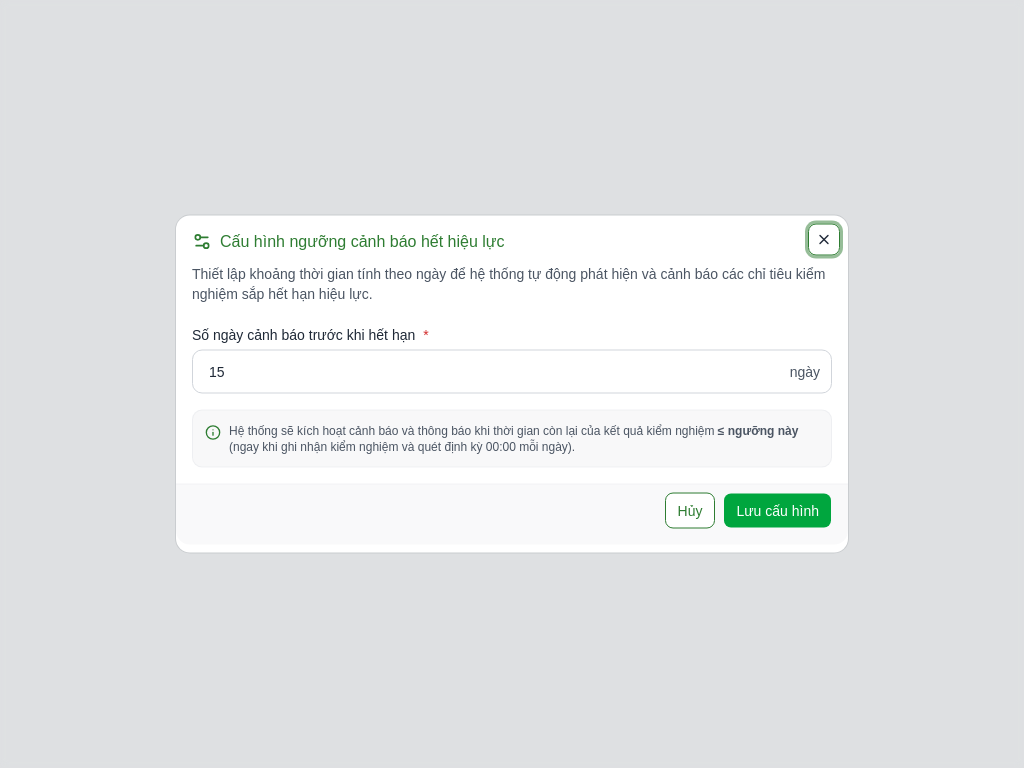
Test: InspectionExpiryThresholdDialog › hiển thị thông báo lỗi khi API cập nhật trả về lỗi
Replace the text in the number field labelled "Số ngày cảnh báo trước khi hết hạn *" with "20" at {"x": 512, "y": 372}, box x1=192 y1=350 x2=832 y2=394
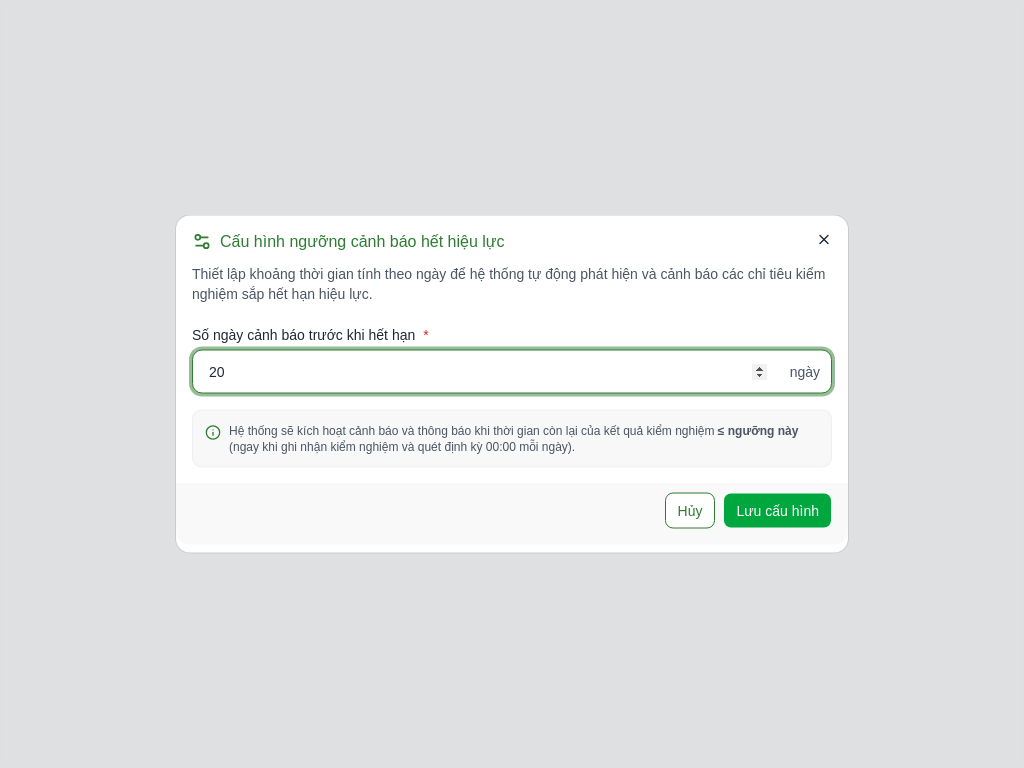
Click the button "Lưu cấu hình".
click(778, 510)  # box x1=724 y1=492 x2=832 y2=528
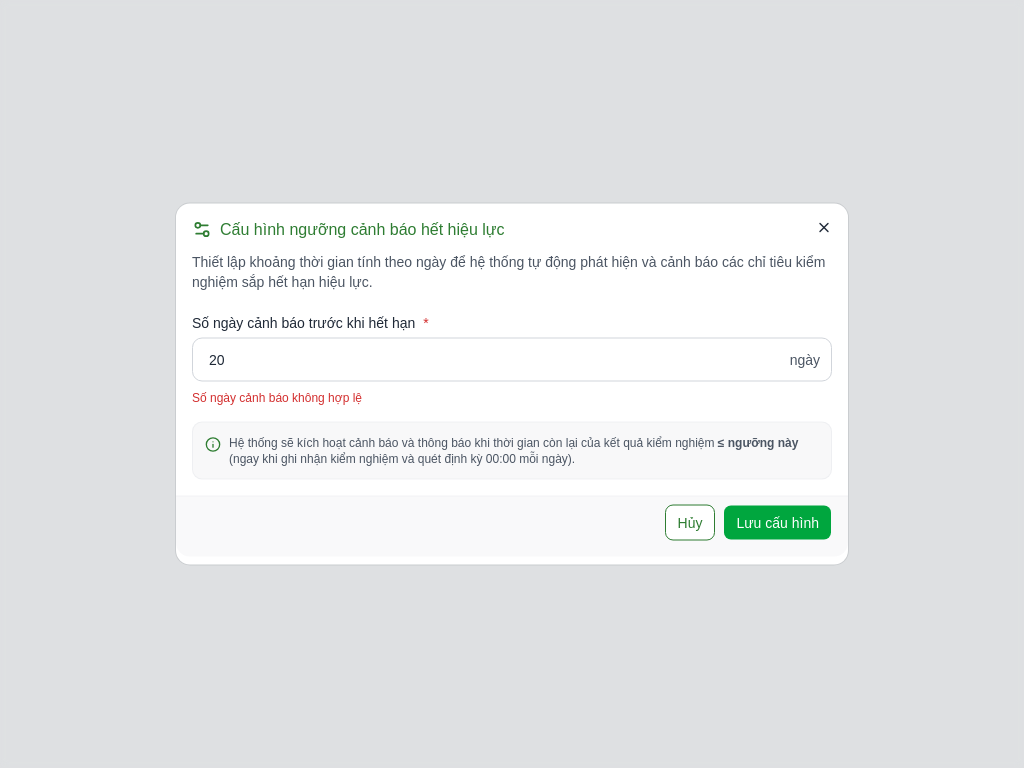
Expected: the text "Số ngày cảnh báo không hợp lệ" is shown, x1=192 y1=390 x2=362 y2=404
